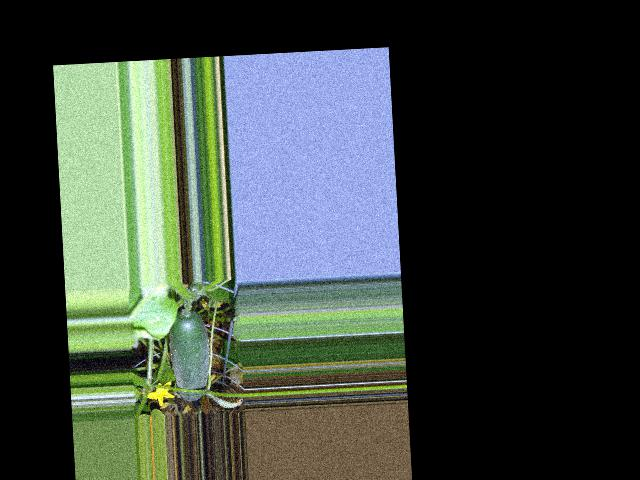cucumber: (168, 308, 213, 401)
